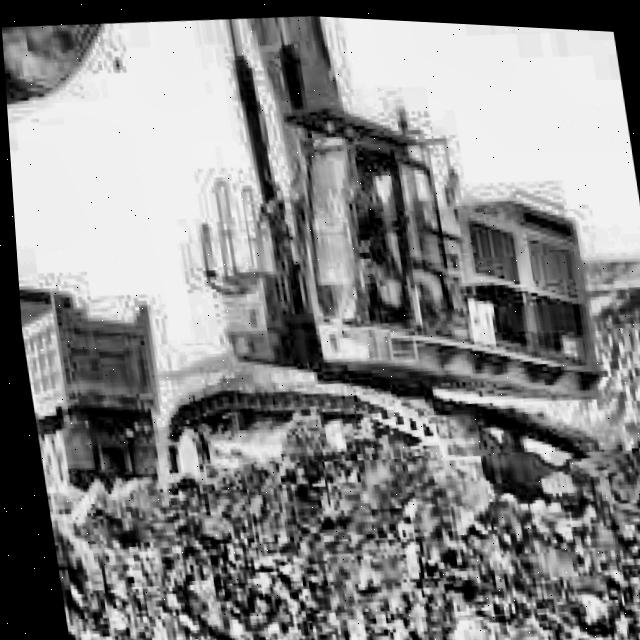dump_truck: (14, 275, 165, 500)
excavator: (0, 0, 615, 540)
